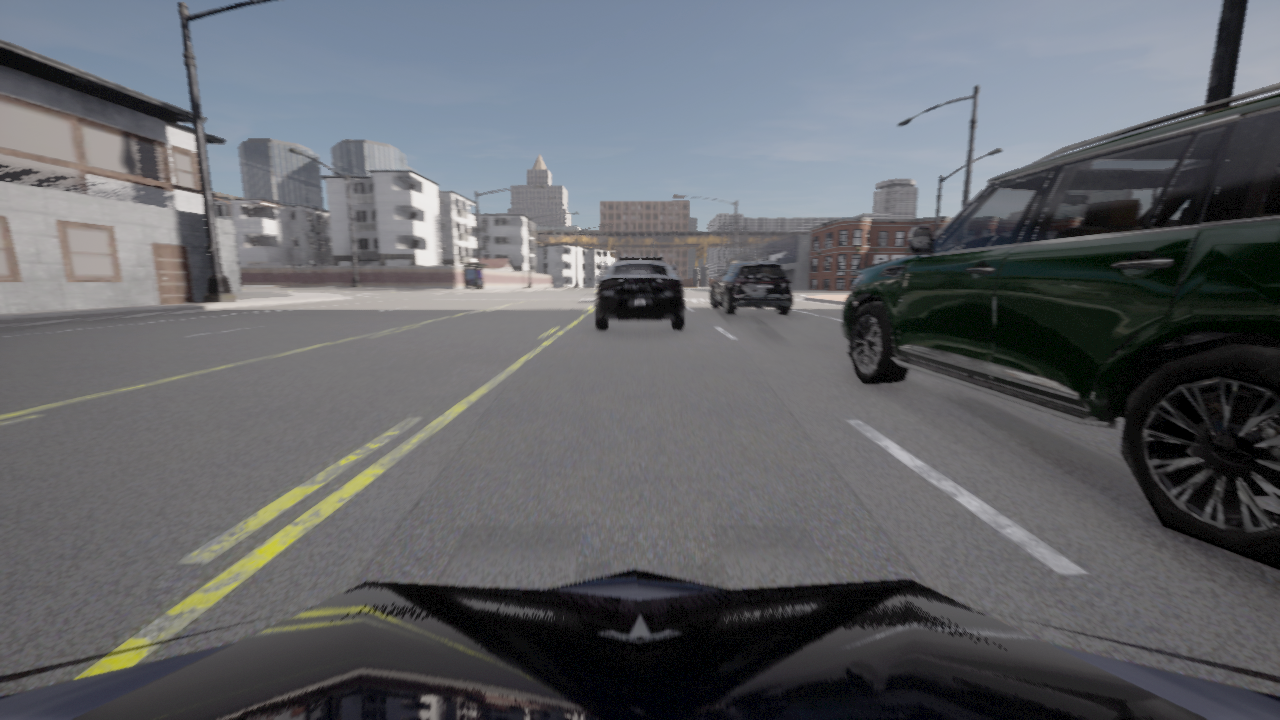cyclist: (842, 83, 1279, 570), (0, 569, 1279, 719), (595, 256, 684, 329), (710, 260, 792, 314)
